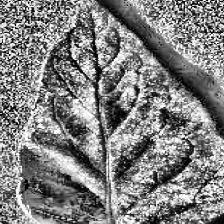spider mites: (16, 0, 224, 224)
